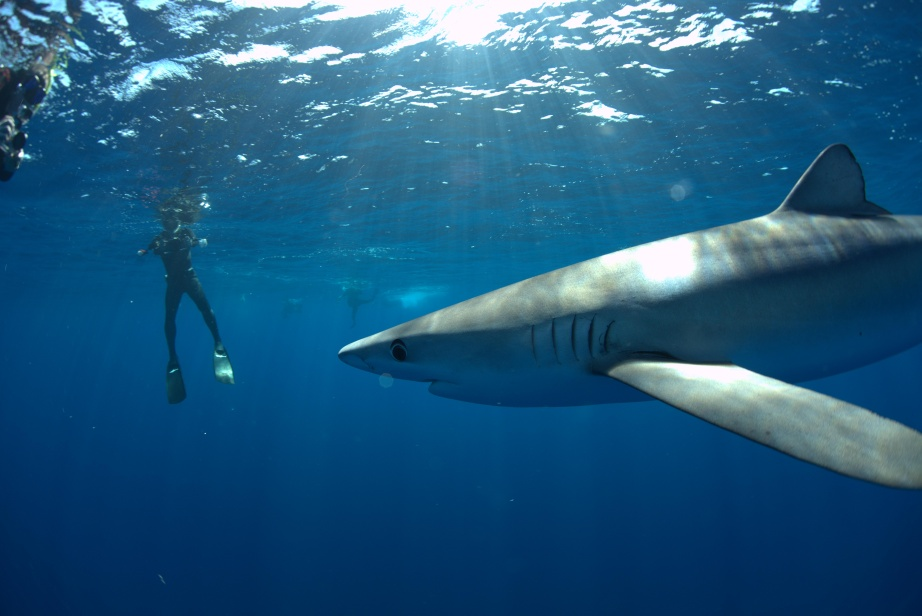Azul: (308, 116, 922, 489)
